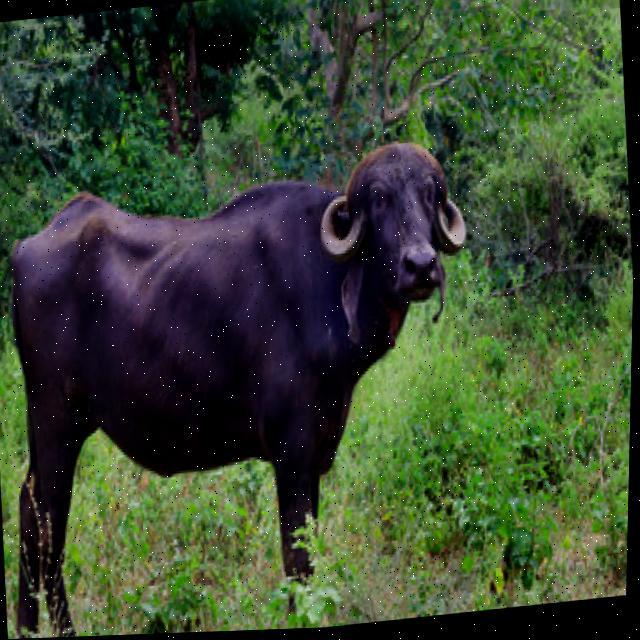Buffalo: (0, 123, 497, 640)
